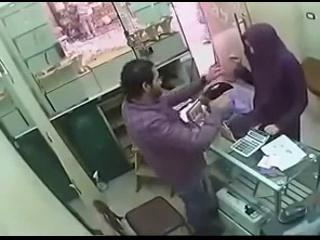Normal: (120, 36, 248, 234), (92, 196, 192, 236), (230, 127, 271, 158)
